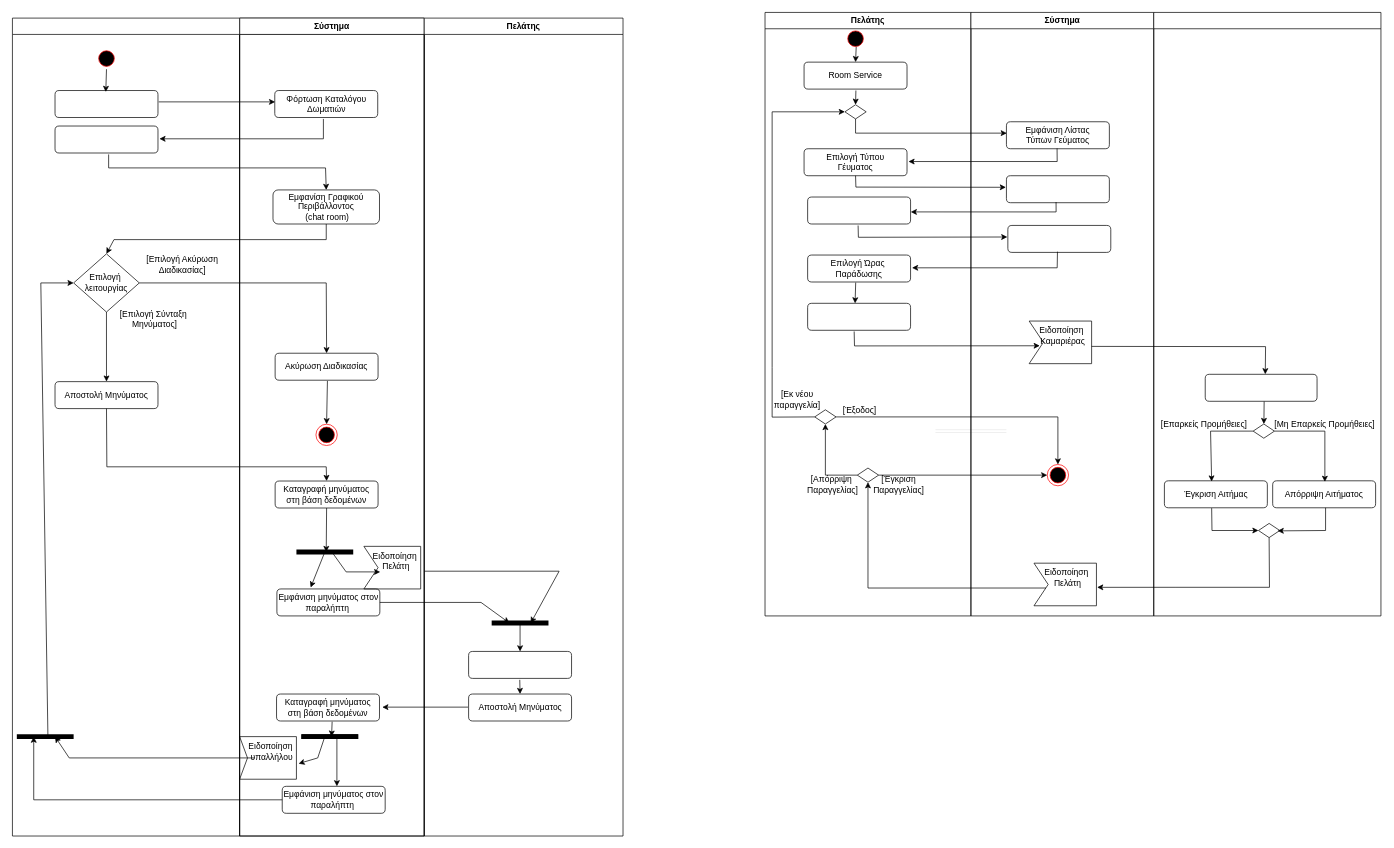
This 1394x848 diagram has some shape labels left out. Here are the shapes that lost their labels. From the top down, the box of each, then its label:
(54, 90, 158, 118): Εκκίνηση Νέας Συνομιλίας
(54, 125, 158, 153): Επιλογή Συνομιλητή (Πελάτης)
(1006, 175, 1109, 203): Εμφάνιση προσφερόμενων γευμάτων
(807, 196, 911, 224): Επιλογή Γεύματος
(1007, 225, 1111, 252): Εμφάνιση Επιλογών Ώρας Παράδοσης
(807, 303, 911, 330): Αποστολή Παραγγελίας
(1153, 12, 1381, 616): Καμαριέρα
(1205, 374, 1317, 401): Έλεγχος Προμηθειών
(12, 17, 240, 836): Υπάλληλος Υποδοχής
(468, 651, 572, 678): Σύνταξη Μηνύματος
